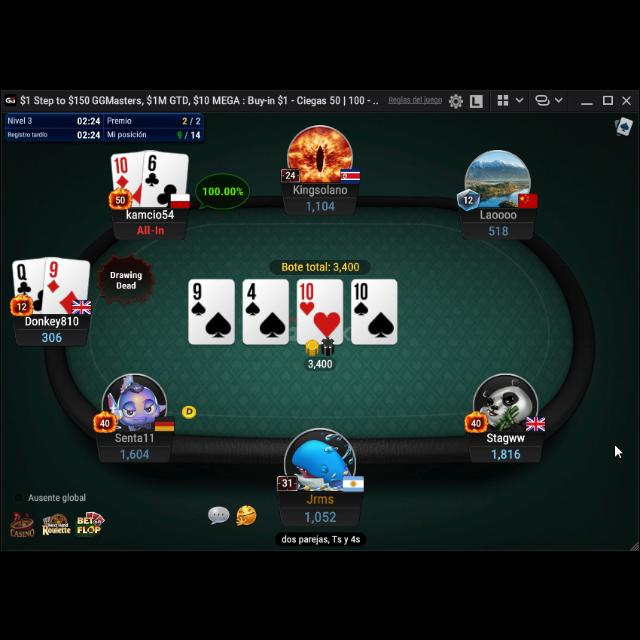4s: (244, 279, 262, 315)
6c: (143, 152, 161, 188)
8s: (190, 279, 208, 315)
9d: (47, 258, 61, 292)
9s: (190, 278, 207, 316)
Qc: (16, 260, 34, 294)
Td: (115, 153, 132, 187), (299, 280, 315, 314)
Th: (299, 279, 315, 315)
Ts: (352, 279, 370, 315)
all_in_symbol: (136, 222, 164, 234)
bet_text: (306, 354, 334, 368)
dealer: (181, 402, 197, 418)
pot_text: (281, 259, 361, 271)
stack_text: (303, 506, 337, 522), (119, 444, 151, 458), (491, 444, 522, 458), (306, 196, 336, 210), (488, 221, 510, 235), (41, 328, 64, 340)
